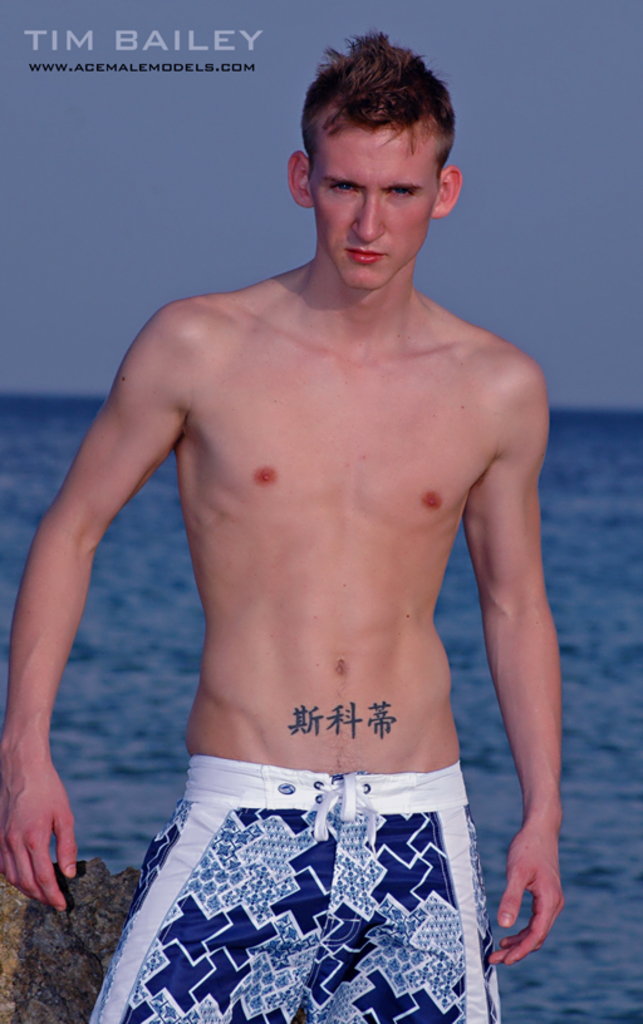Human_hand: (0, 749, 73, 912), (491, 820, 563, 963)
